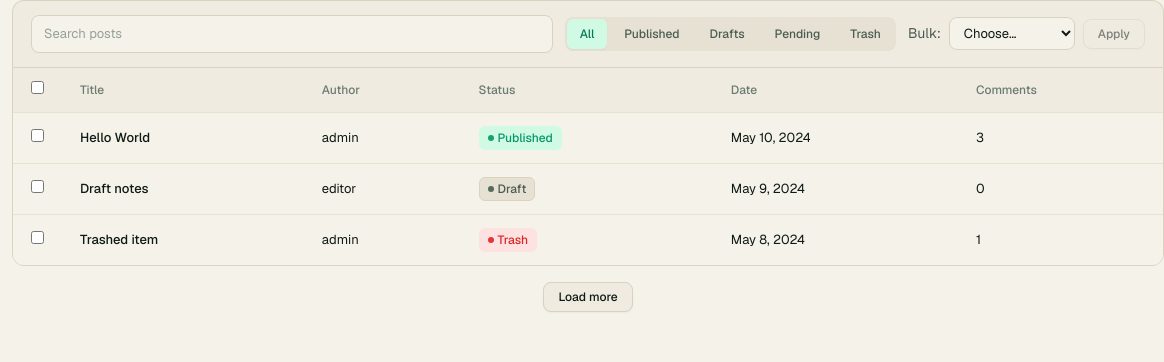
it: PostListClient › shows an inline error when "Load more" fetcher rejects
Click the button "Load more" at (588, 296), box x1=543 y1=282 x2=632 y2=312
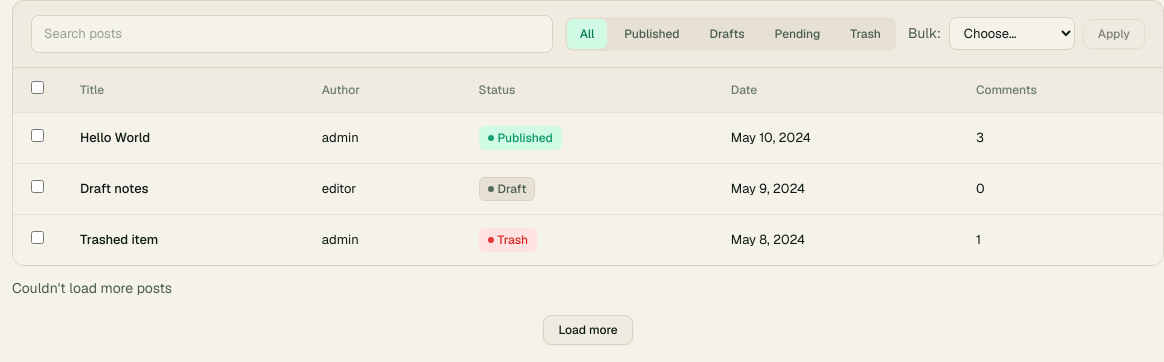
Expected: the message reads "Couldn't load more posts", x1=12 y1=278 x2=172 y2=296
